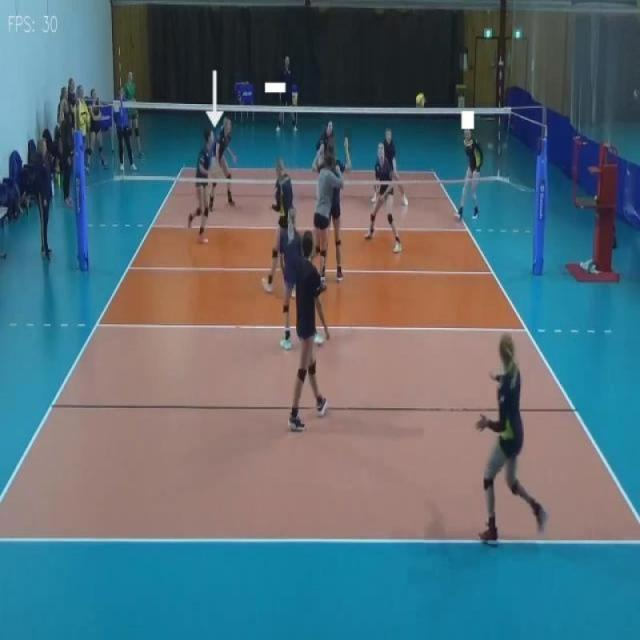volleyball: (415, 92, 425, 108)
